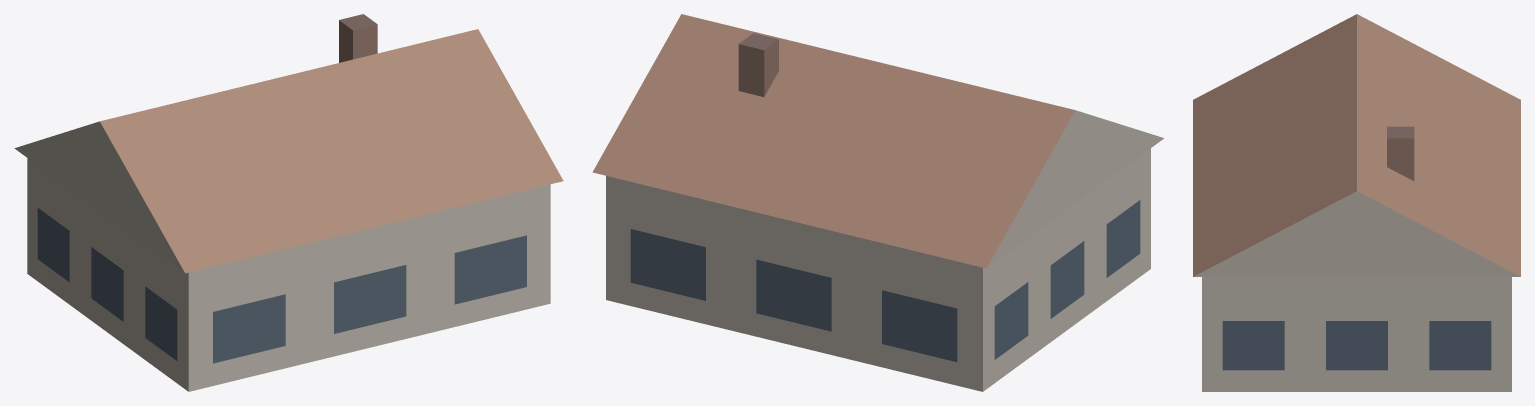
File: house_01_gabled_cottage.glb
The picture shows the model from 3 angles, left to right: view 1: azimuth 30°, elevation 25°; view 2: azimuth 150°, elevation 25°; view 3: azimuth 270°, elevation 25°; orthographic projection. The views are drawn at different scales.
Parts seen in each view (by area): view 1: house_01_gabled_cottage; view 2: house_01_gabled_cottage; view 3: house_01_gabled_cottage.
Part boxes in pixels (x1,y1,x2,y2): house_01_gabled_cottage: (14,14,563,391); house_01_gabled_cottage: (592,14,1164,391); house_01_gabled_cottage: (1193,14,1520,391).
Size of the model in its own units: 11.5 by 6.6 by 9.
